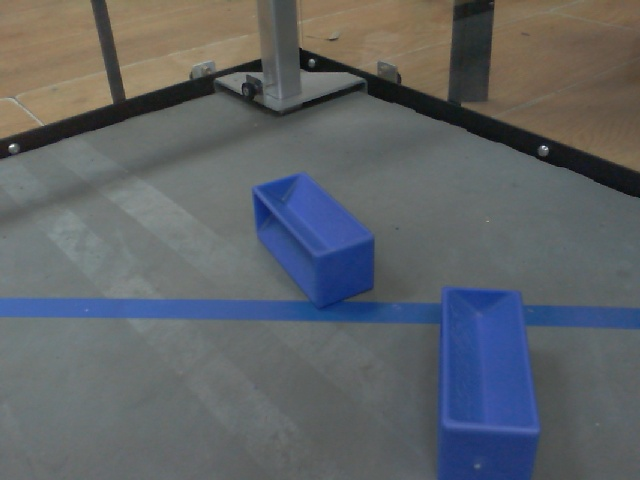BlueSample: (429, 284, 546, 480), (252, 169, 378, 308)
